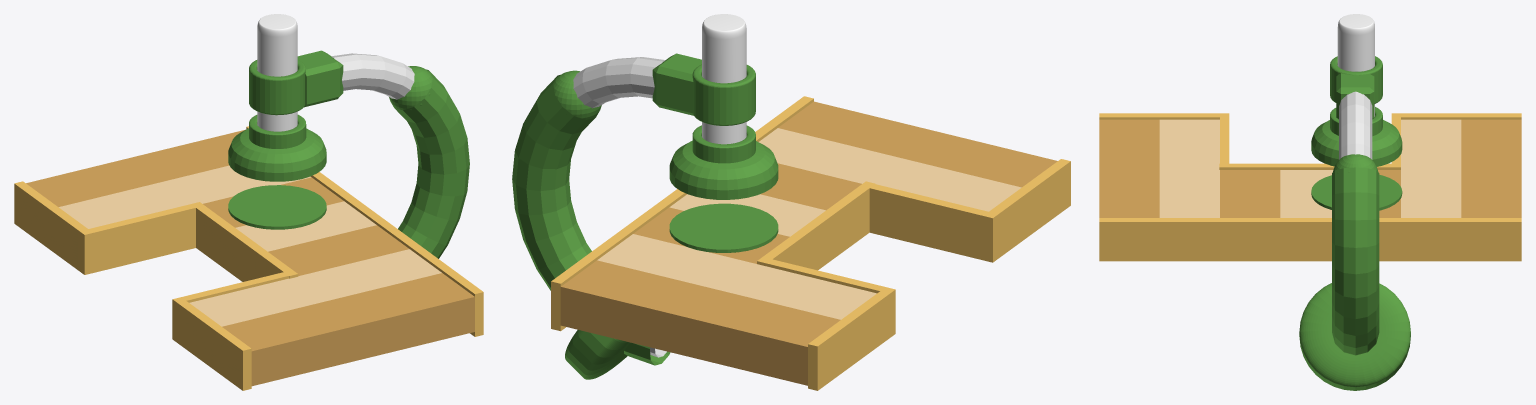
The picture shows the model from 3 angles, left to right: view 1: azimuth 30°, elevation 25°; view 2: azimuth 150°, elevation 25°; view 3: azimuth 270°, elevation 25°; orthographic projection. The views are drawn at different scales.
Visible parts, largest first — view 1: Cube.027, Circle, Cylinder.026, Cylinder.023, Cylinder.025, Circle.001, Cylinder.022, Cube.003, Cylinder.024, Sphere.003; view 2: Cube.027, Circle, Cylinder.023, Cylinder.026, Cylinder.025, Circle.001, Cylinder.022, Cube.003, Cylinder.021, Cylinder.024, Sphere.003; view 3: Cube.027, Circle, Cylinder.021, Cylinder.025, Circle.001, Cylinder.023, Cylinder.026, Cube.003, Cylinder.022, Sphere.003, Cylinder.024.
Part boxes in pixels (x1,y1,x2,y2): Cube.027: [14, 126, 483, 390]; Circle: [391, 69, 469, 258]; Cylinder.026: [228, 185, 326, 229]; Cylinder.023: [228, 128, 326, 181]; Cylinder.025: [257, 14, 297, 131]; Circle.001: [332, 53, 414, 99]; Cylinder.022: [249, 60, 305, 115]; Cube.003: [297, 50, 343, 107]; Cylinder.024: [249, 114, 306, 148]; Sphere.003: [389, 66, 434, 110]; Cube.027: [551, 96, 1070, 390]; Circle: [512, 75, 670, 365]; Cylinder.023: [669, 140, 778, 199]; Cylinder.026: [669, 203, 778, 252]; Cylinder.025: [702, 14, 746, 144]; Circle.001: [573, 57, 666, 357]; Cylinder.022: [692, 64, 755, 125]; Cube.003: [652, 53, 701, 115]; Cylinder.021: [565, 330, 629, 379]; Cylinder.024: [692, 125, 755, 163]; Sphere.003: [552, 70, 601, 119]; Cube.027: [1099, 113, 1521, 261]; Circle: [1332, 167, 1379, 355]; Cylinder.021: [1299, 283, 1410, 390]; Cylinder.025: [1337, 14, 1374, 116]; Circle.001: [1339, 91, 1372, 159]; Cylinder.023: [1311, 120, 1402, 166]; Cylinder.026: [1311, 174, 1402, 210]; Cube.003: [1336, 73, 1374, 119]; Cylinder.022: [1330, 56, 1382, 103]; Sphere.003: [1333, 154, 1378, 174]; Cylinder.024: [1330, 107, 1382, 136].
Size of the model in its own units: 325 by 295 by 355.
